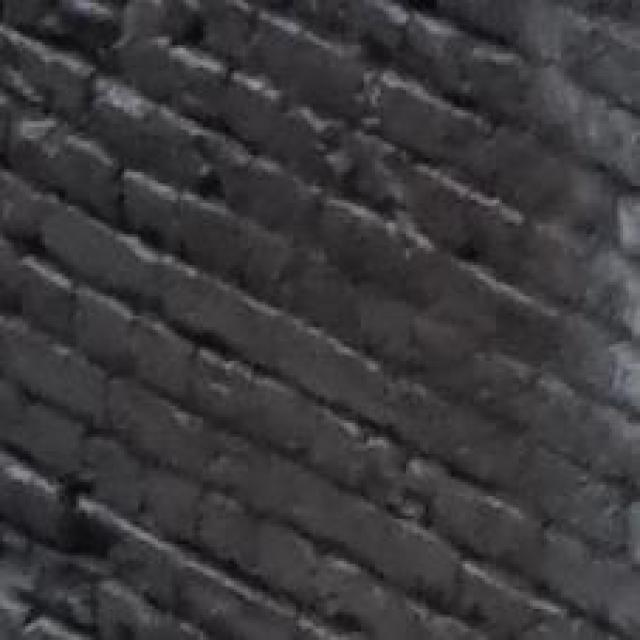Crack: (0, 282, 240, 640)
